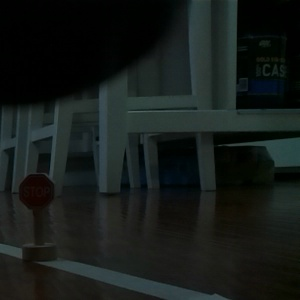stop sign: (16, 171, 61, 264)
